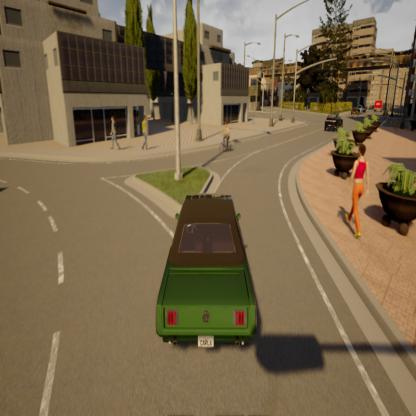Cars: (142, 185, 266, 362), (323, 112, 345, 135)
Pedestrian: (344, 139, 371, 246), (105, 112, 125, 152), (139, 110, 150, 154)
